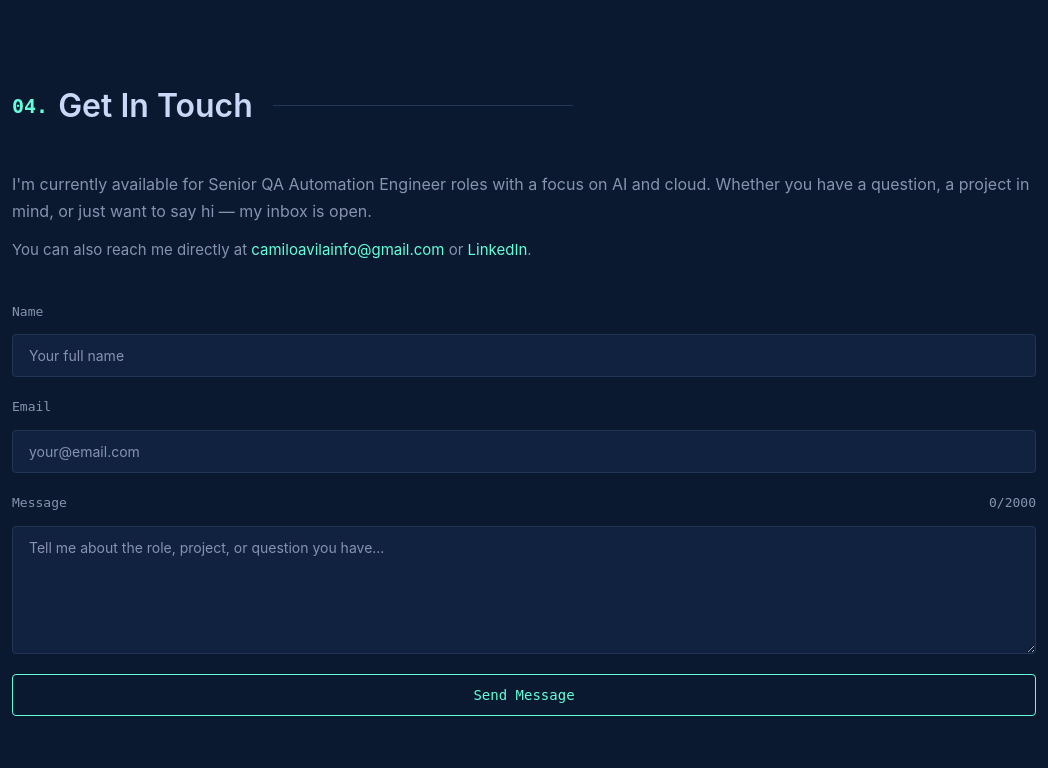
ContactForm › Field Validation › shows error when name is empty on submit
This screenshot has width=1048, height=768.
Type "test@example.com" into the field labelled "Email" at (524, 452), box [12, 430, 1036, 473]
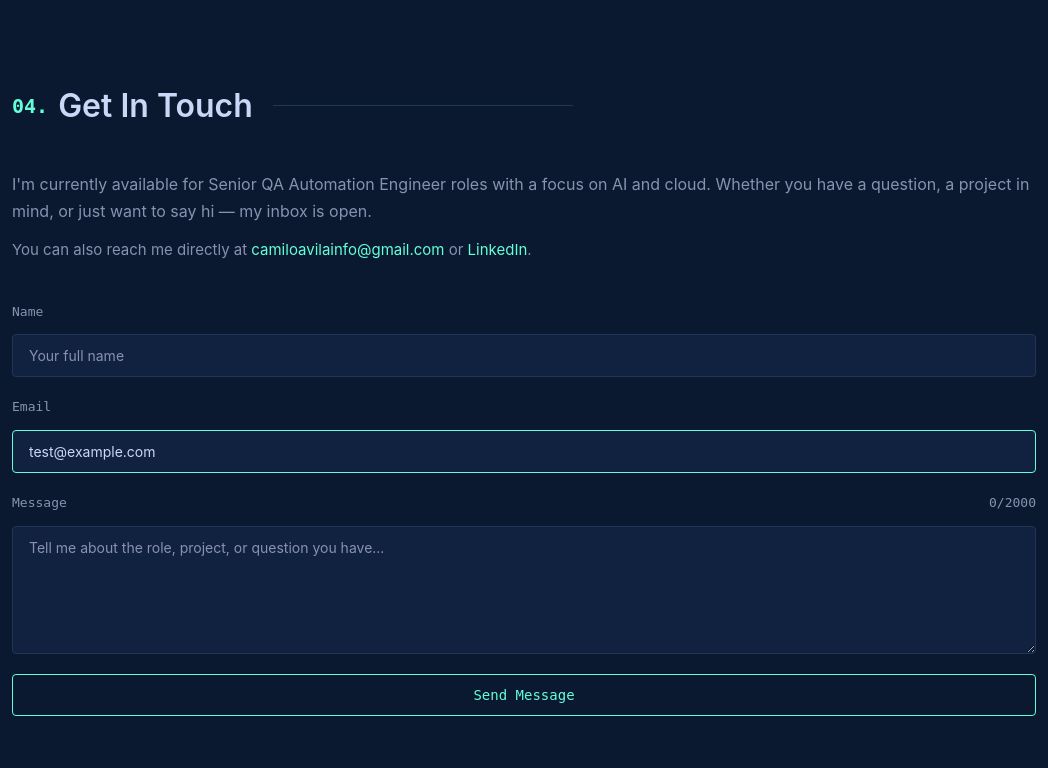
Type "Test message" into the text box labelled "Message 0/2000" at (524, 590), box [12, 526, 1036, 654]
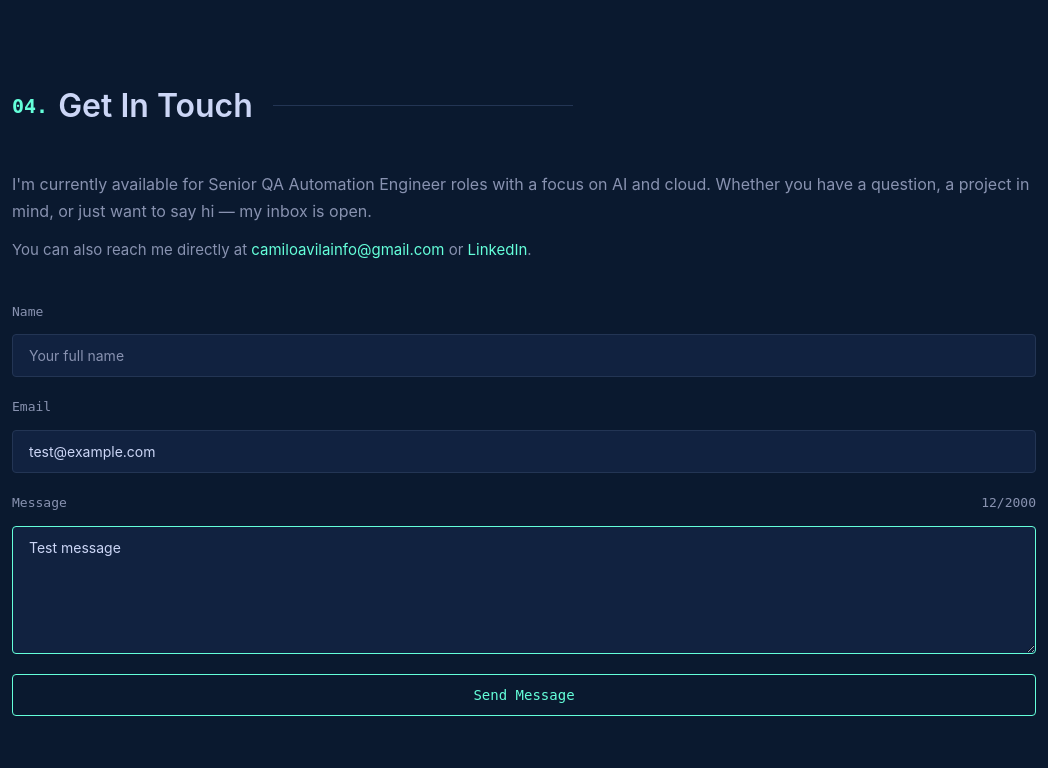
Click the button "Send Message" at (524, 695), box [12, 674, 1036, 716]
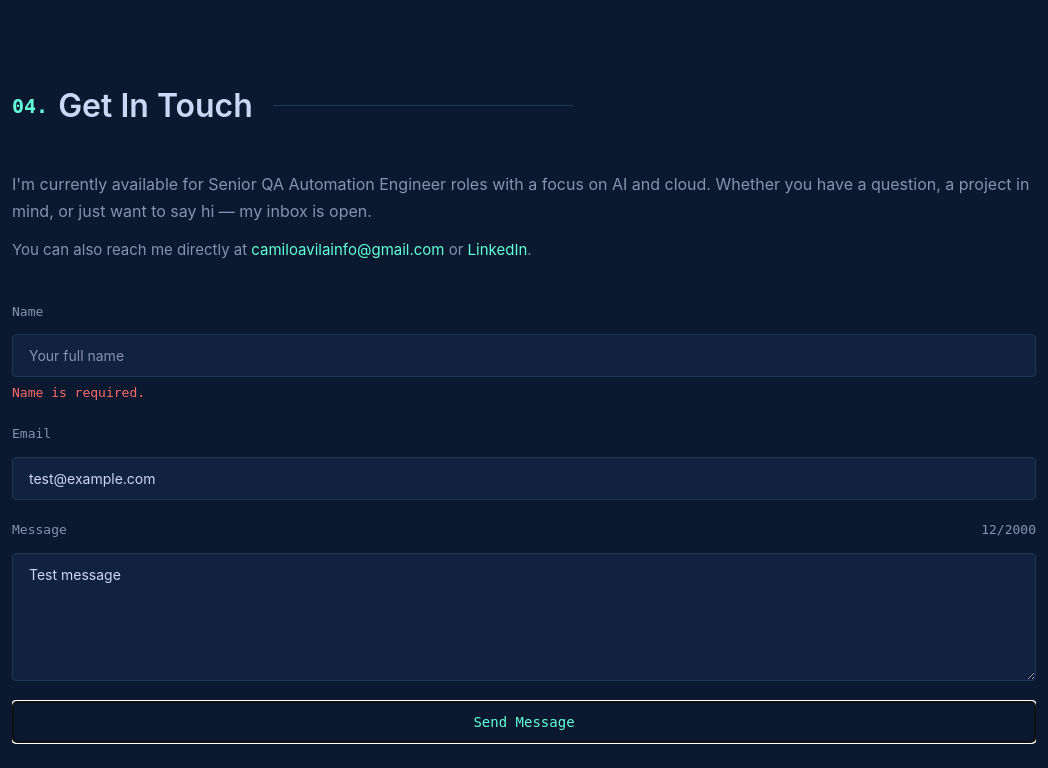
Result: the text "Name is required." is shown at [12, 385, 145, 400]
